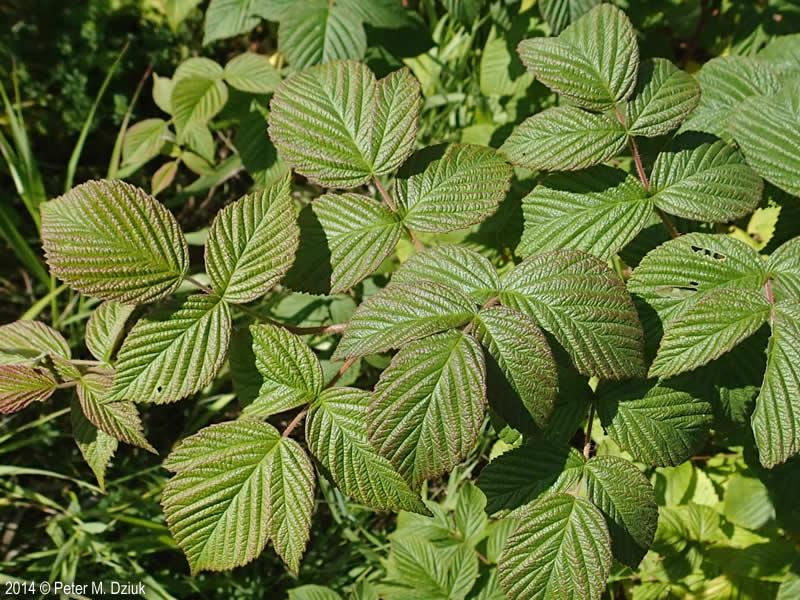Raspberry leaf: (168, 417, 322, 577), (34, 170, 187, 307), (501, 251, 658, 381), (272, 58, 420, 193), (329, 249, 502, 363), (366, 329, 482, 485), (306, 384, 434, 520), (97, 293, 238, 410), (516, 5, 651, 110), (198, 165, 297, 308), (286, 183, 401, 305), (580, 451, 695, 570), (498, 491, 617, 600), (646, 126, 780, 217), (397, 142, 518, 238), (214, 315, 319, 420), (508, 108, 627, 176), (617, 45, 707, 133)
